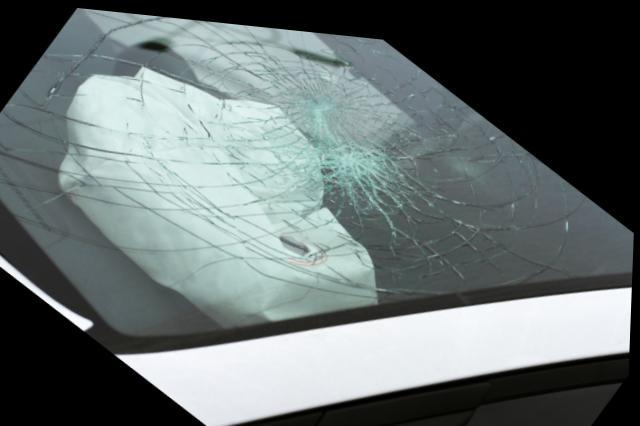glass shatter: (0, 6, 635, 351)
